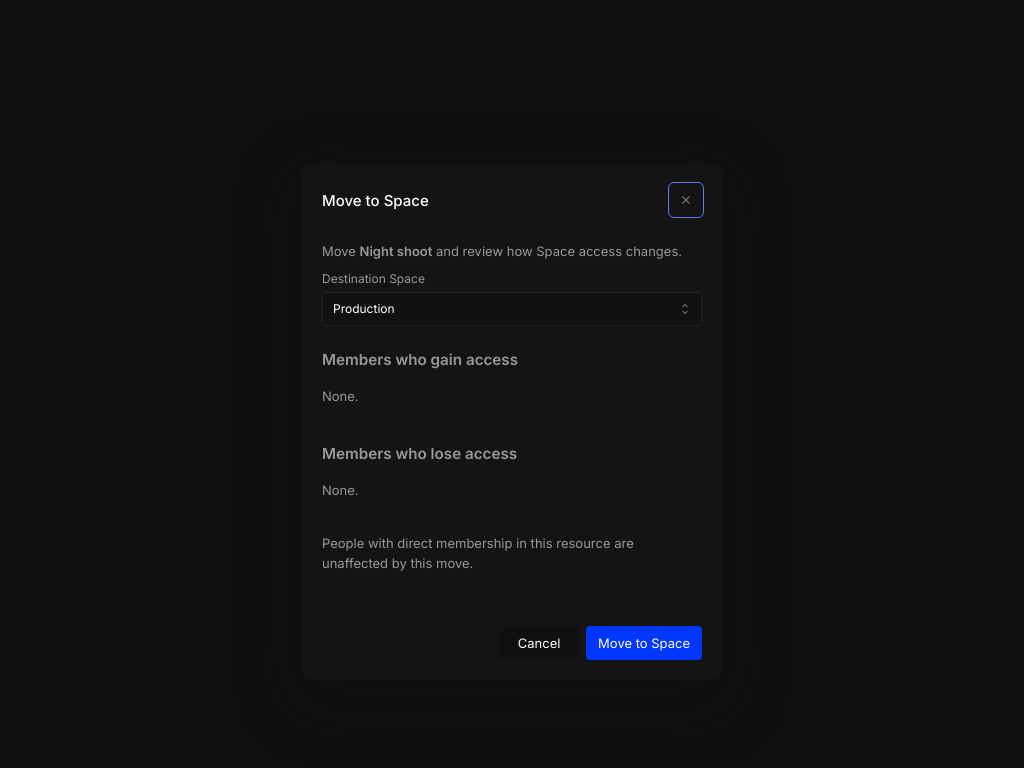
Test: MoveToSpaceDialog › keeps the dialog open and explains a failed move commit
Expected: the element labelled "Members who gain access" is shown, [322,350,518,404]
Click the button "Move to Space". click: point(644, 643)
box: [586,626,702,660]
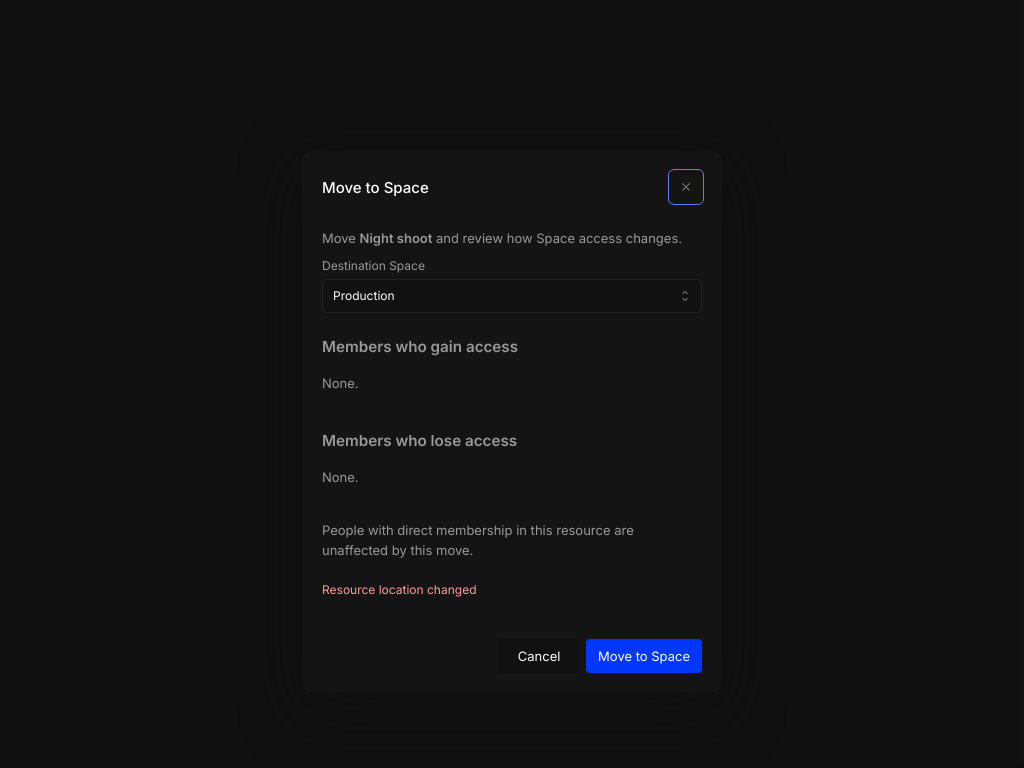
Expected: the text "Resource location changed" is shown, [322,582,476,597]
